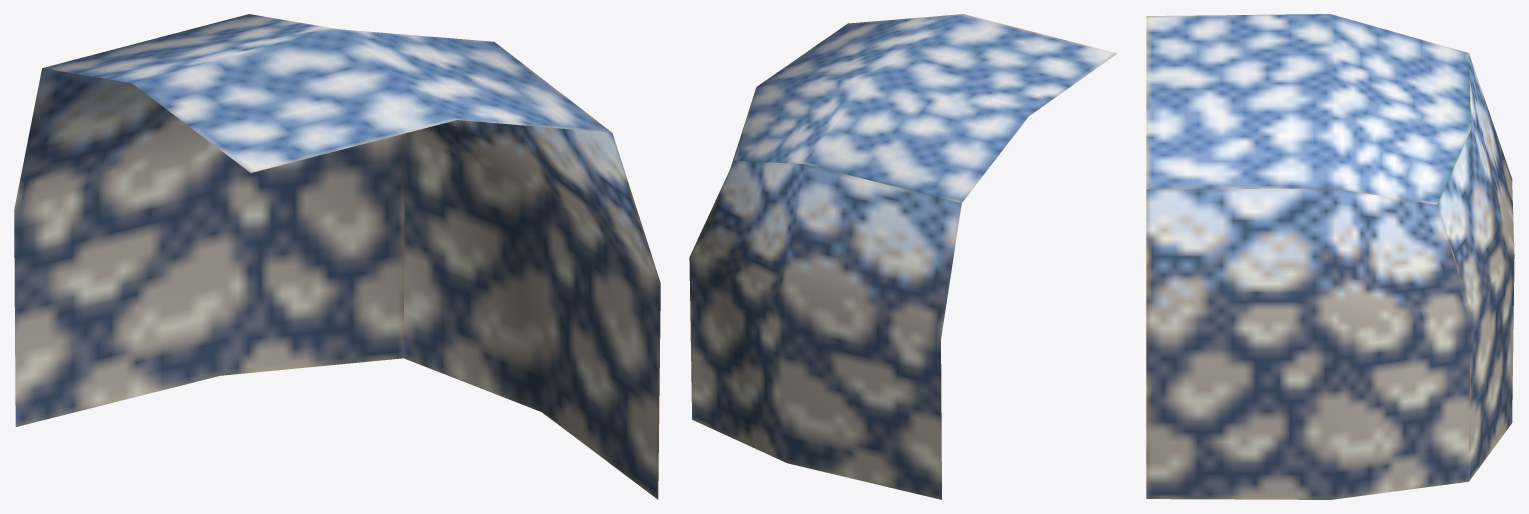
File: snowCTile_groundCorner_upperRight.fbx
The picture shows the model from 3 angles, left to right: view 1: azimuth 30°, elevation 25°; view 2: azimuth 150°, elevation 25°; view 3: azimuth 270°, elevation 25°; orthographic projection. The views are drawn at different scales.
Parts seen in each view (by area): view 1: snowCTile_groundCorner_upperRight; view 2: snowCTile_groundCorner_upperRight; view 3: snowCTile_groundCorner_upperRight.
Part boxes in pixels (x1,y1,x2,y2): snowCTile_groundCorner_upperRight: [14, 14, 660, 499]; snowCTile_groundCorner_upperRight: [689, 14, 1116, 499]; snowCTile_groundCorner_upperRight: [1146, 14, 1514, 499].
Size of the model in its own units: 1.01 by 1.01 by 1.01.
